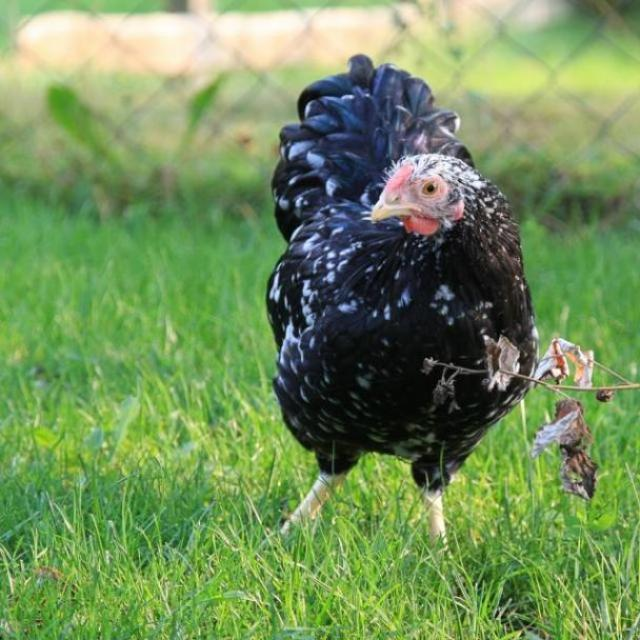Chicken: (269, 91, 552, 568)
